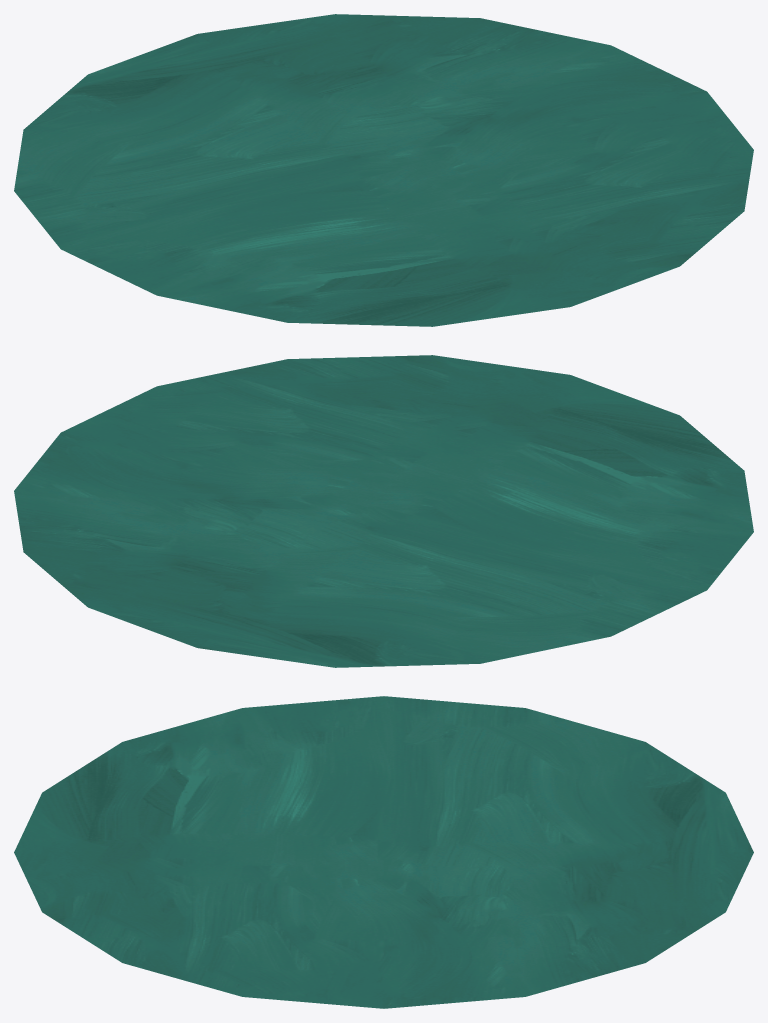
Rendered from SM_Ground_02_.fbx.
The picture shows the model from 3 angles, top to bottom: view 1: azimuth 30°, elevation 25°; view 2: azimuth 150°, elevation 25°; view 3: azimuth 270°, elevation 25°; orthographic projection.
Parts seen in each view (by area): view 1: SM_Ground_01; view 2: SM_Ground_01; view 3: SM_Ground_01.
Boxes of the visible parts, x1=… form: SM_Ground_01: x1=14, y1=14, x2=753, y2=326; SM_Ground_01: x1=14, y1=355, x2=753, y2=667; SM_Ground_01: x1=14, y1=696, x2=753, y2=1008.
Size of the model in its own units: 15074 by 0.00246 by 15074.
